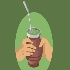guampa: (22, 17, 46, 70)
